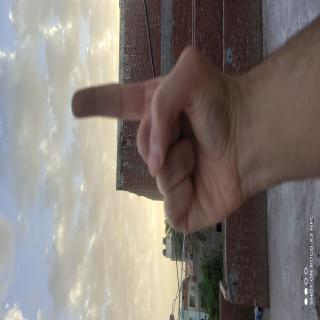BAA: (35, 154, 124, 320)
